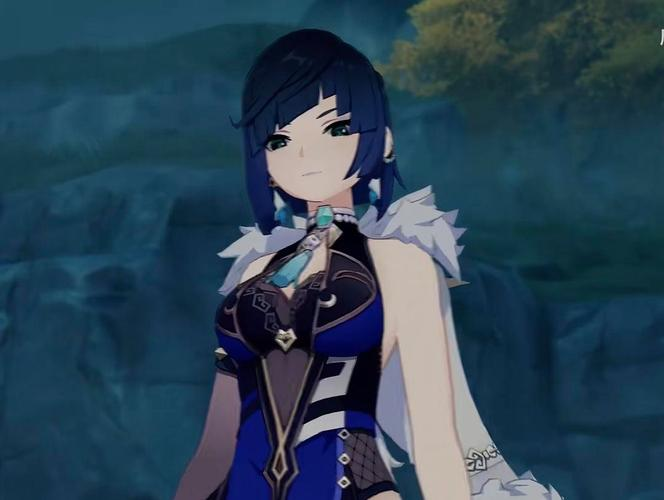夜兰: (172, 32, 482, 500)
